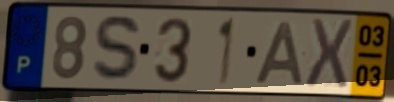1: (215, 14, 241, 90)
3: (151, 16, 194, 86)
8: (50, 14, 90, 83)
A: (252, 19, 306, 86)
S: (89, 12, 145, 86)
X: (303, 16, 356, 91)
